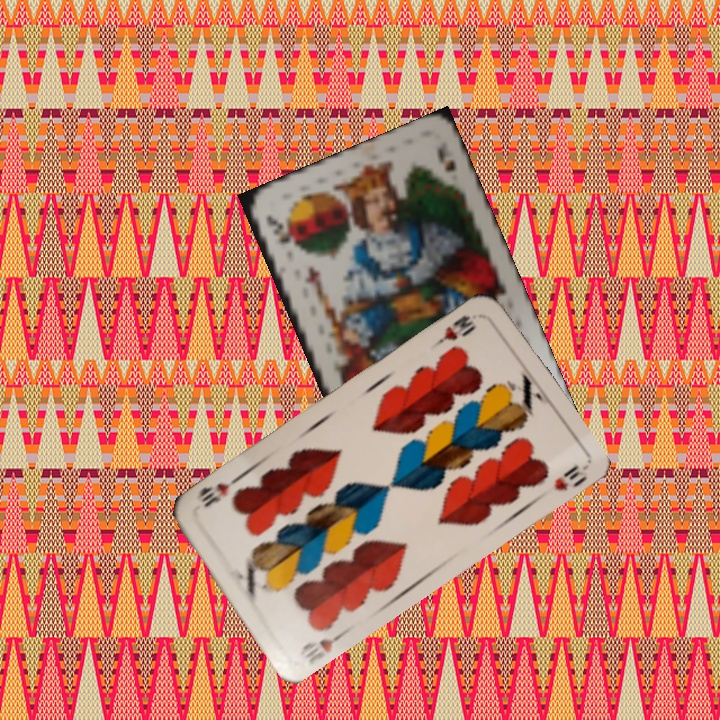H10: (295, 626, 348, 667), (431, 311, 479, 348)
SK: (261, 210, 293, 246)
